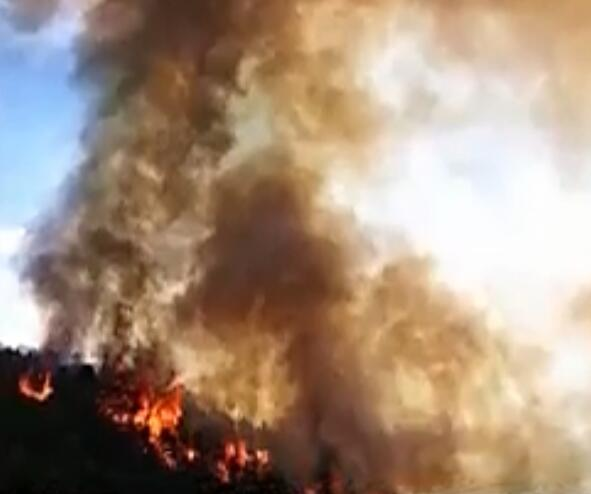fire: (95, 377, 200, 472), (207, 440, 276, 486), (17, 364, 54, 408)
yanwu: (12, 0, 590, 494)
